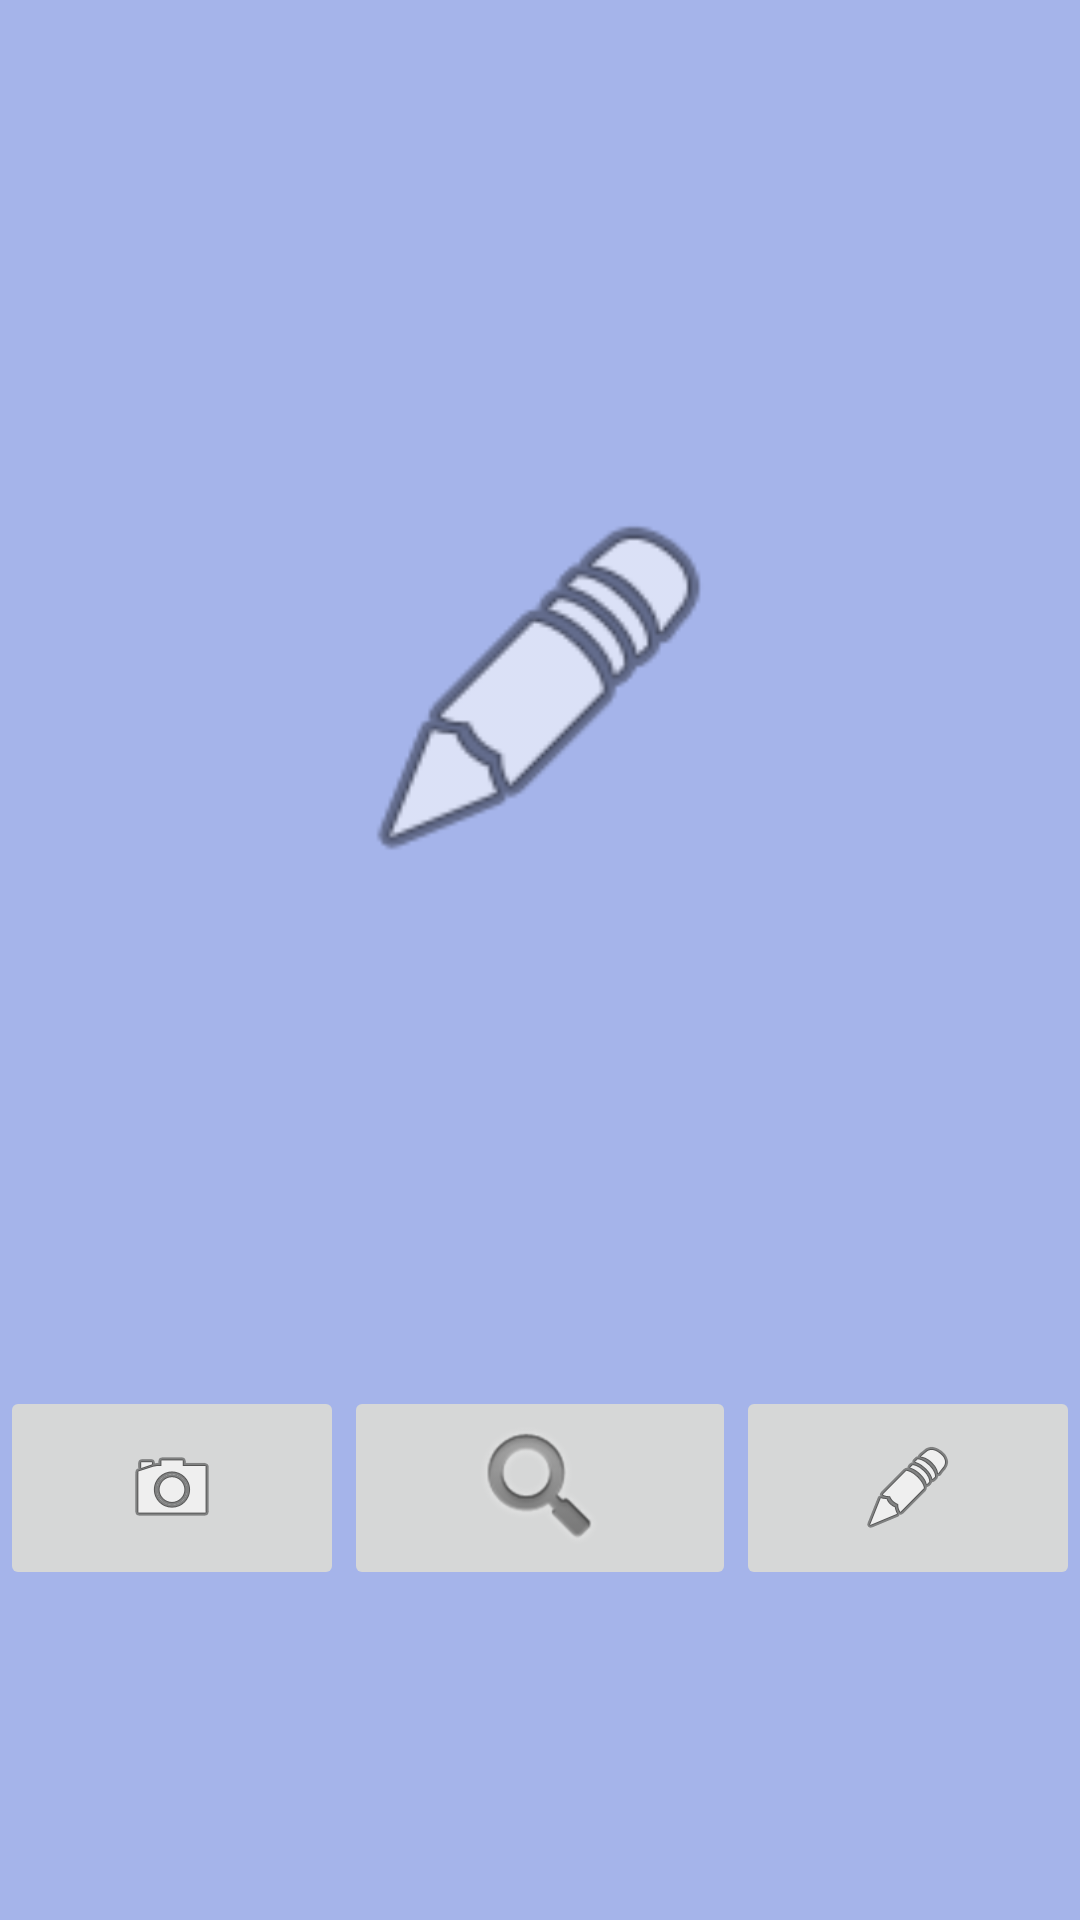

Named icons in this screenshot (1080px×1920px) and their bounding boxes, (x1, y1, x2, y2):
Captura: (12, 1404, 332, 1572)
Dibuja: (748, 1404, 1068, 1572)
edit: (377, 526, 700, 849)
